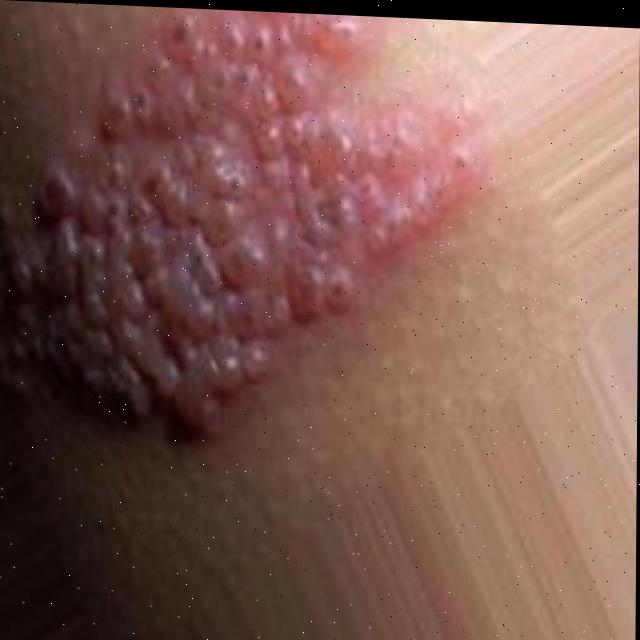Shingles: (0, 0, 469, 461)
